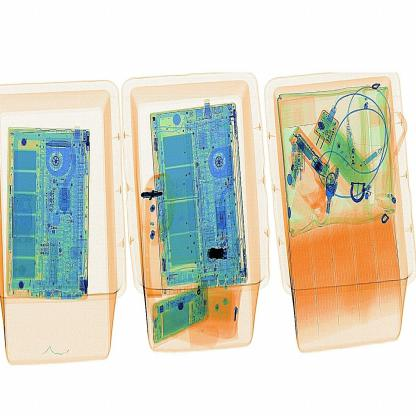scissors: (199, 232, 235, 269)
